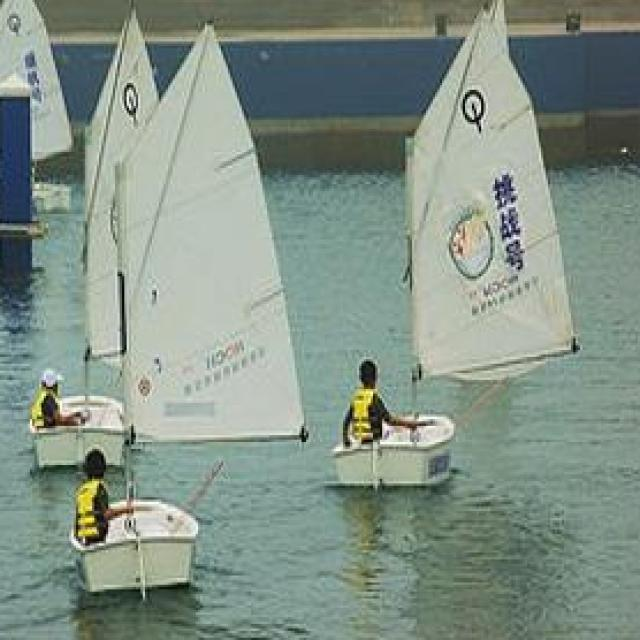sailboat: (38, 57, 290, 583), (336, 0, 571, 504), (0, 4, 147, 465), (0, 0, 74, 233)
